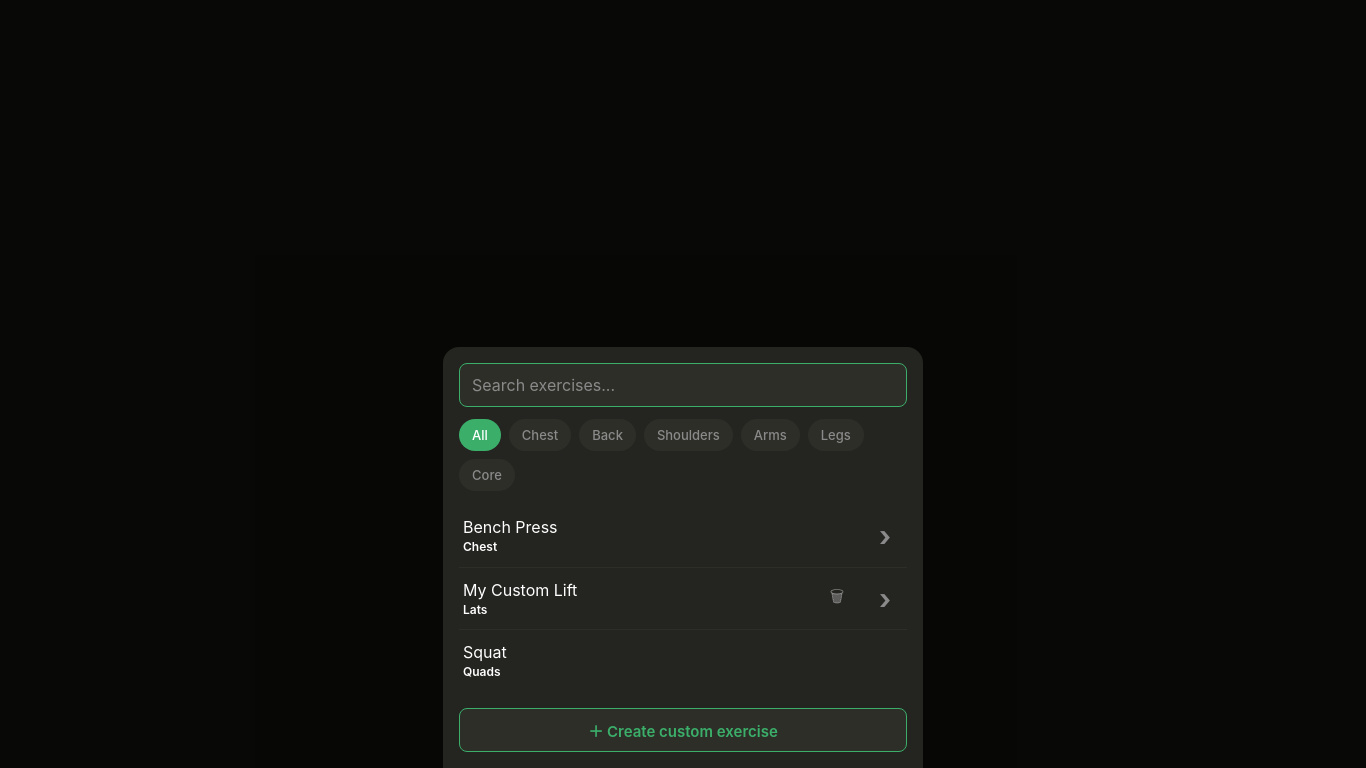
Test case: browse mode › chevron toggle expands and collapses variants inline
This screenshot has width=1366, height=768.
Check: the text "Bench Press" is shown, box [463,517,558,537]
Click the button named "Expand variants": x=885, y=536 [863,514,907,558]
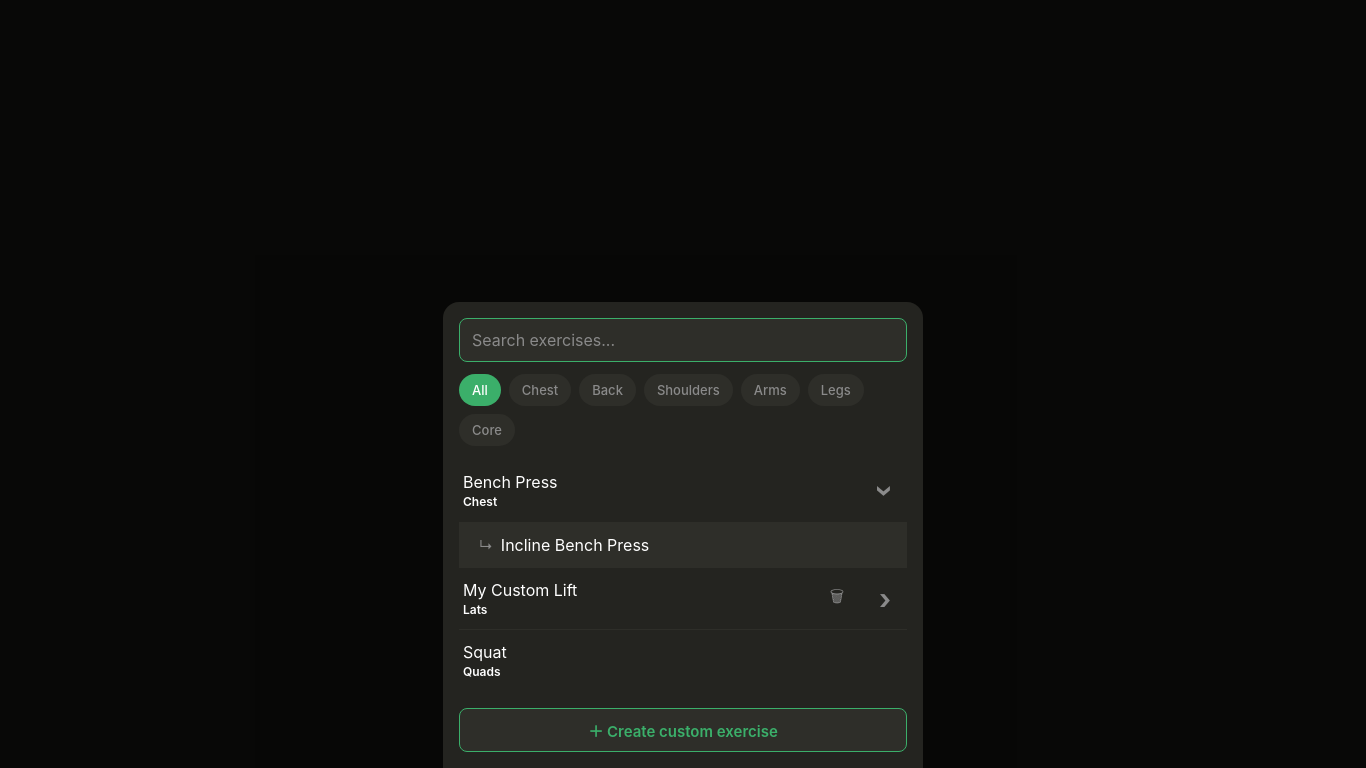
Check: the text "Incline Bench Press" is shown, box [501,535,649,555]
Click the button named "Collapse variants": x=885, y=491 [863,469,907,513]
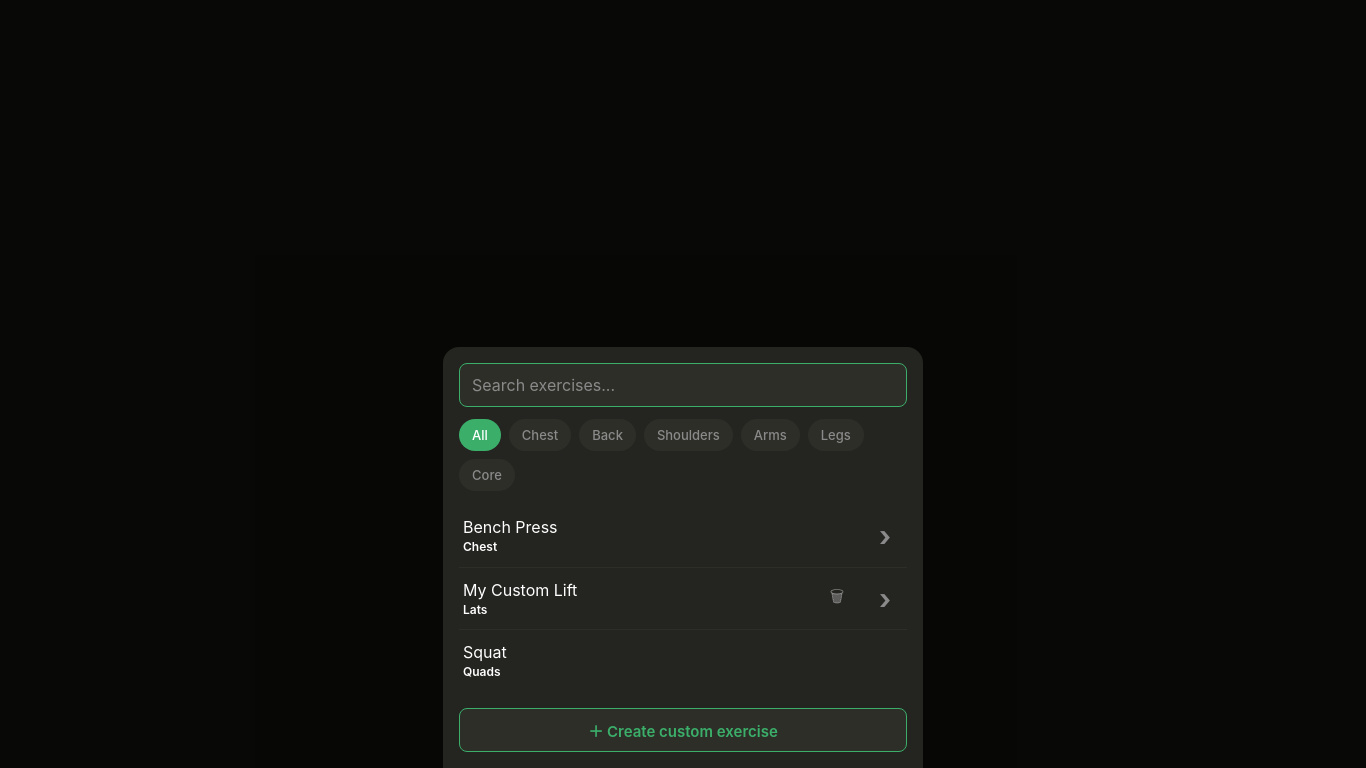
Check: the button "Incline Bench Press" is gone
